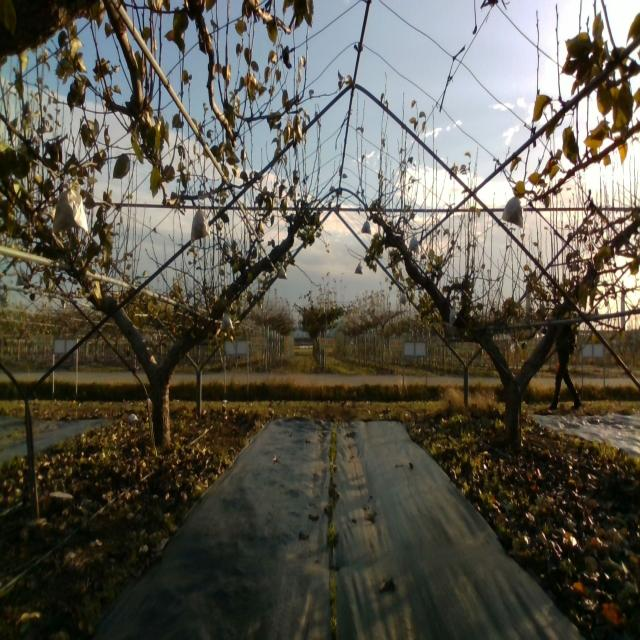pearbags: (53, 176, 91, 235), (502, 188, 524, 228), (191, 203, 211, 245), (220, 311, 233, 332), (409, 234, 419, 255), (360, 217, 372, 234)
